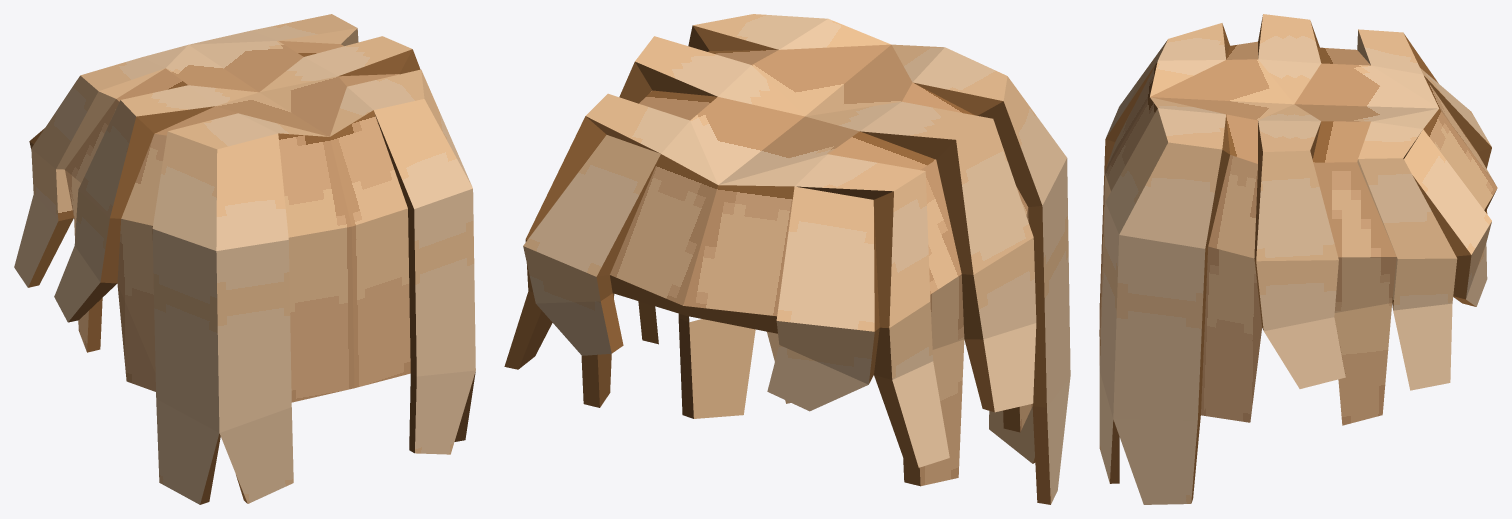
The model's file is long_blonde.glb.
The picture shows the model from 3 angles, left to right: view 1: azimuth 30°, elevation 25°; view 2: azimuth 150°, elevation 25°; view 3: azimuth 270°, elevation 25°; orthographic projection. The views are drawn at different scales.
Visible parts, largest first — view 1: hair; view 2: hair; view 3: hair.
Boxes of the visible parts, x1=… form: hair: x1=14, y1=14, x2=475, y2=504; hair: x1=504, y1=14, x2=1070, y2=504; hair: x1=1099, y1=14, x2=1497, y2=504.
Bounding box in the file's own units: 0.7193 × 0.6323 × 0.642.
1 material, 1 textured.
